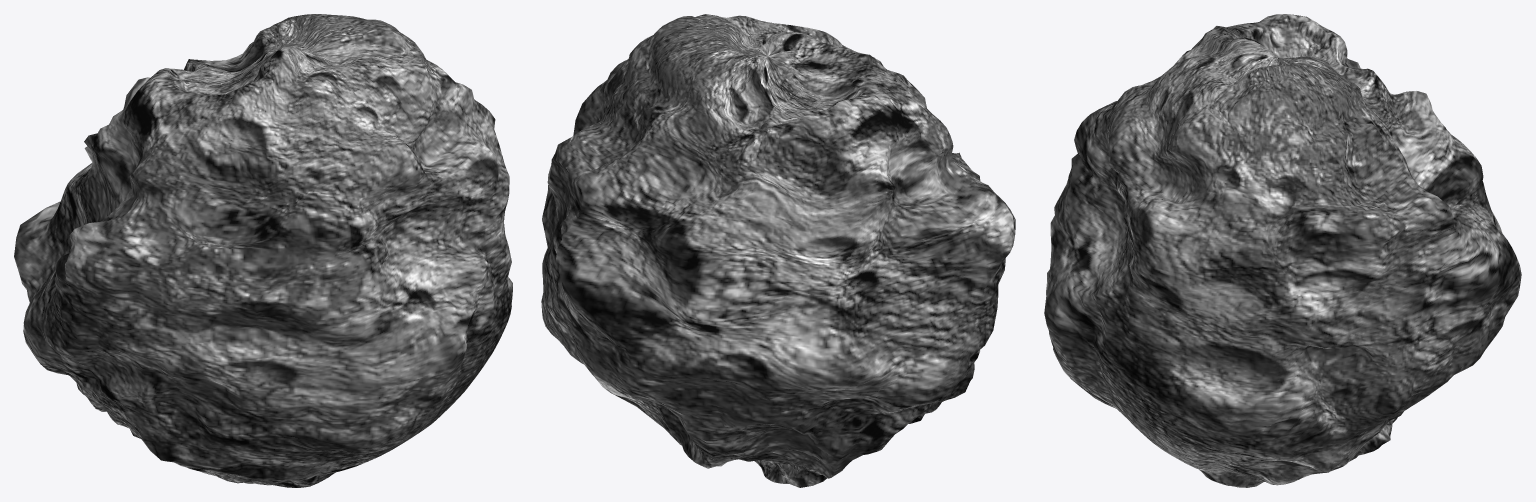
The model's file is Meteor_FBX.fbx.
3 views of the same model, side by side, from view 1: azimuth 30°, elevation 25°; view 2: azimuth 150°, elevation 25°; view 3: azimuth 270°, elevation 25° (orthographic). The views are drawn at different scales.
Parts seen in each view (by area): view 1: Meteor_transform; view 2: Meteor_transform; view 3: Meteor_transform.
Boxes of the visible parts, box(x1,y1,x2,y2) form: Meteor_transform: box(14, 14, 512, 487); Meteor_transform: box(541, 14, 1015, 487); Meteor_transform: box(1044, 14, 1521, 487).
Size of the model in its own units: 20.6 by 19.79 by 19.62.
1 material, 1 textured.
